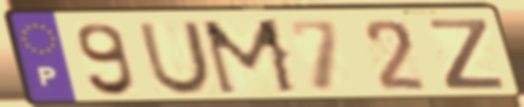2: (364, 17, 430, 93)
7: (286, 18, 344, 94)
9: (75, 20, 138, 98)
M: (198, 16, 303, 98)
U: (135, 19, 215, 97)
Z: (426, 17, 508, 92)
